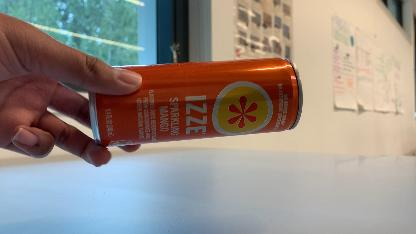Can: (84, 55, 308, 151)
